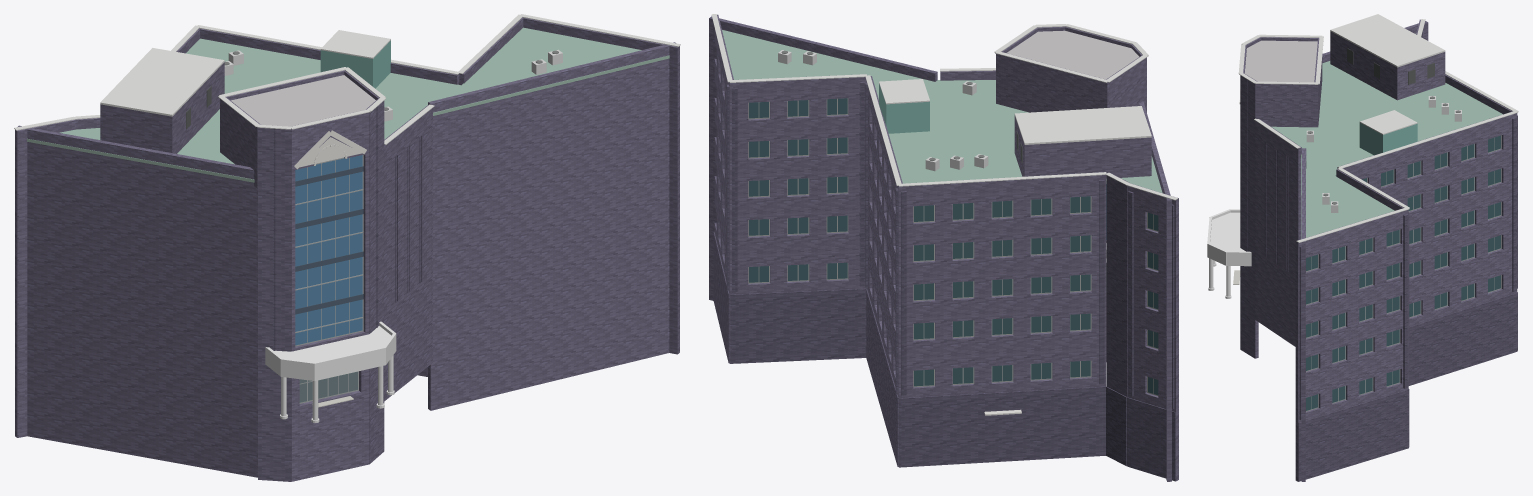
The picture shows the model from 3 angles, left to right: view 1: azimuth 30°, elevation 25°; view 2: azimuth 150°, elevation 25°; view 3: azimuth 270°, elevation 25°; orthographic projection. The views are drawn at different scales.
Parts seen in each view (by area): view 1: w451575562__brick, w451575562__roof-green, w451575562__tower-glass, w451575562__cap-white, w451575562__roof, w451575562__canopy, w451575562__brick-dark, w451575562__frame, w451575562__tower-band, w451575562__teal-box, w451575562__stone-white, w451575562__column-white (+2 smaller); view 2: w451575562__brick, w451575562__brick-dark, w451575562__glass, w451575562__roof-green, w451575562__cap-white, w451575562__frame, w451575562__roof, w451575562__teal-box, w451575562__ac; view 3: w451575562__brick, w451575562__brick-dark, w451575562__roof-green, w451575562__glass, w451575562__cap-white, w451575562__roof, w451575562__frame, w451575562__canopy, w451575562__teal-box, w451575562__ac, w451575562__dark, w451575562__column-white.
Boxes of the visible parts, x1,y1,x2,y2 form: w451575562__brick: (15,17,679,481); w451575562__roof-green: (27,27,669,182); w451575562__tower-glass: (295,155,362,345); w451575562__cap-white: (14,14,680,144); w451575562__roof: (231,75,375,126); w451575562__canopy: (265,321,396,380); w451575562__brick-dark: (273,106,422,350); w451575562__frame: (295,155,363,403); w451575562__tower-band: (295,166,363,314); w451575562__teal-box: (320,40,390,88); w451575562__stone-white: (294,130,366,169); w451575562__column-white: (280,355,394,422); w451575562__brick: (709,14,1178,481); w451575562__brick-dark: (713,82,1175,481); w451575562__glass: (749,98,1158,395); w451575562__roof-green: (722,30,1162,192); w451575562__cap-white: (711,14,1177,200); w451575562__frame: (748,98,1158,395); w451575562__roof: (1006,30,1139,79); w451575562__teal-box: (879,83,929,133); w451575562__ac: (778,50,988,171); w451575562__brick: (1240,19,1517,481); w451575562__brick-dark: (1247,79,1517,481); w451575562__roof-green: (1271,33,1502,238); w451575562__glass: (1306,135,1500,410); w451575562__cap-white: (1238,14,1518,242); w451575562__roof: (1244,40,1317,82); w451575562__frame: (1306,135,1501,411); w451575562__canopy: (1207,209,1251,266); w451575562__teal-box: (1359,123,1417,155); w451575562__ac: (1306,96,1461,212); w451575562__dark: (1347,48,1434,84); w451575562__column-white: (1208,258,1231,298).
Bounding box in the file's own units: 50.41 × 29.06 × 29.71.
Materials: 20 (2 with a texture image).
